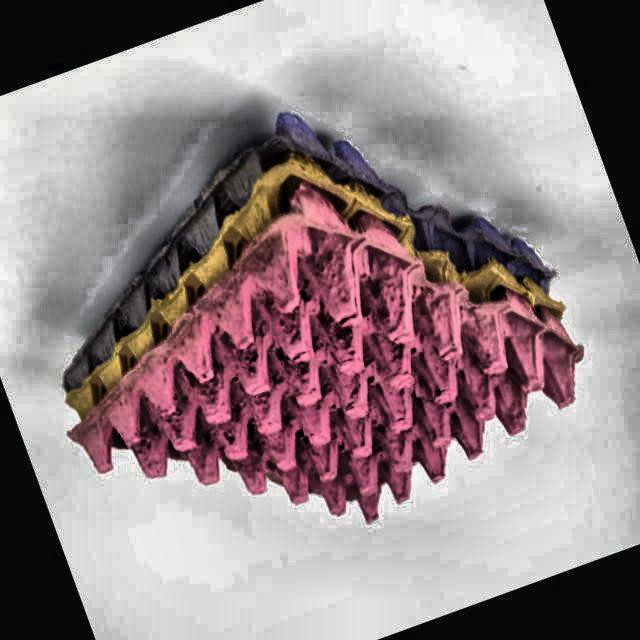cardboard: (63, 114, 584, 522)
